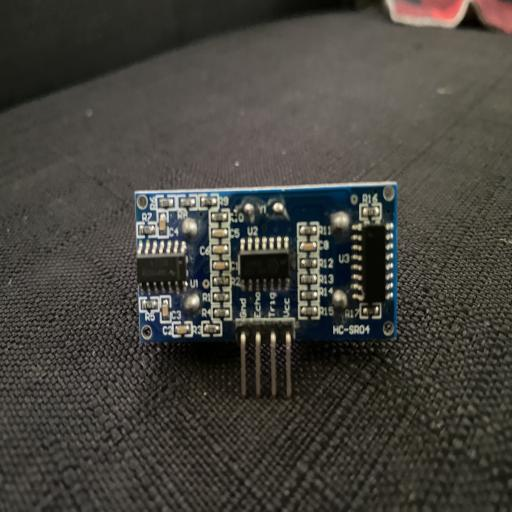Ultrasonic Sensor: (134, 179, 399, 398)
